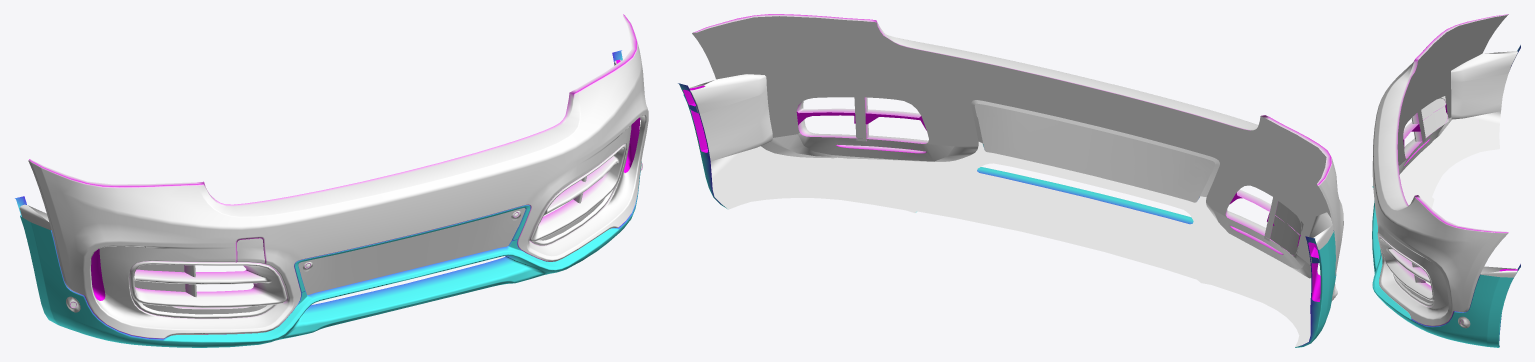
File: Car_Mini_CountrymanJCW_2017_BumperF_SetA_AltB.fbx
3 renders of one model, left to right at view 1: azimuth 30°, elevation 25°; view 2: azimuth 150°, elevation 25°; view 3: azimuth 270°, elevation 25°, orthographic. The views are drawn at different scales.
Visible parts, largest first — view 1: BumperF 6; view 2: BumperF 6; view 3: BumperF 6.
Part boxes in pixels (x1=…): BumperF 6: x1=15, y1=14, x2=648, y2=347; BumperF 6: x1=678, y1=14, x2=1343, y2=347; BumperF 6: x1=1372, y1=14, x2=1520, y2=347.
Size of the model in its own units: 1.78 by 0.4741 by 0.5014.
